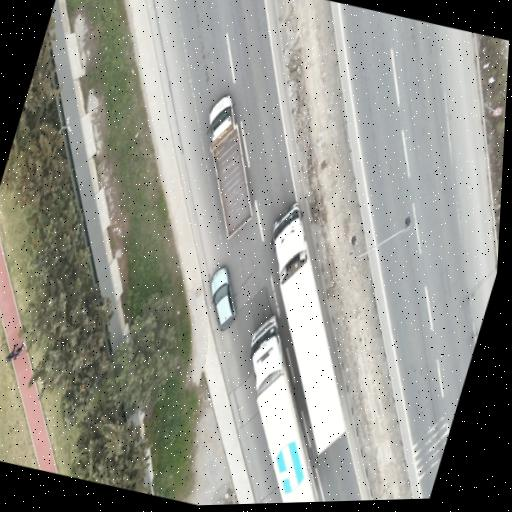car: (212, 267, 236, 330)
person: (4, 343, 21, 365), (14, 337, 28, 361)
truck: (273, 204, 345, 452), (251, 315, 319, 502), (210, 95, 252, 238)
